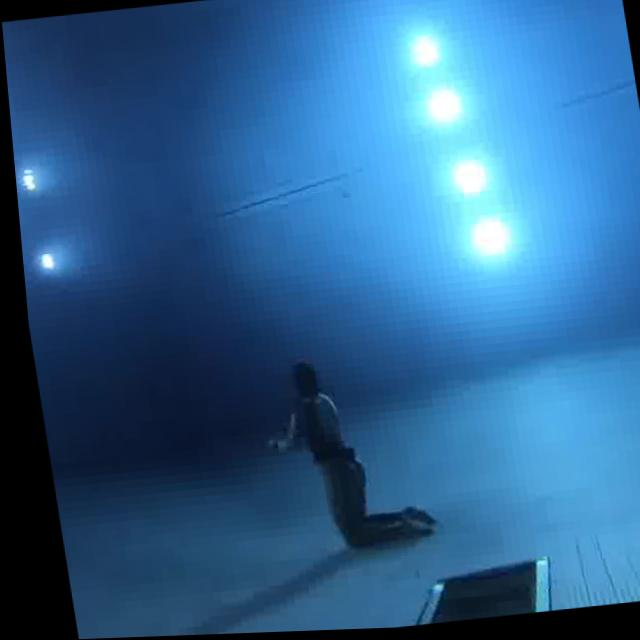human: (236, 341, 438, 568)
